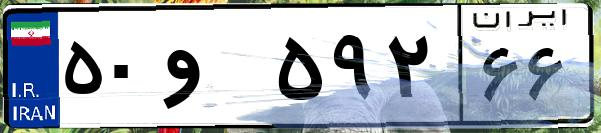0: (110, 28, 158, 98)
2: (385, 28, 445, 110)
5: (270, 28, 330, 110), (57, 26, 110, 100)
6: (475, 38, 525, 113), (525, 38, 570, 115)
9: (330, 28, 385, 110)
و: (158, 20, 270, 120)
